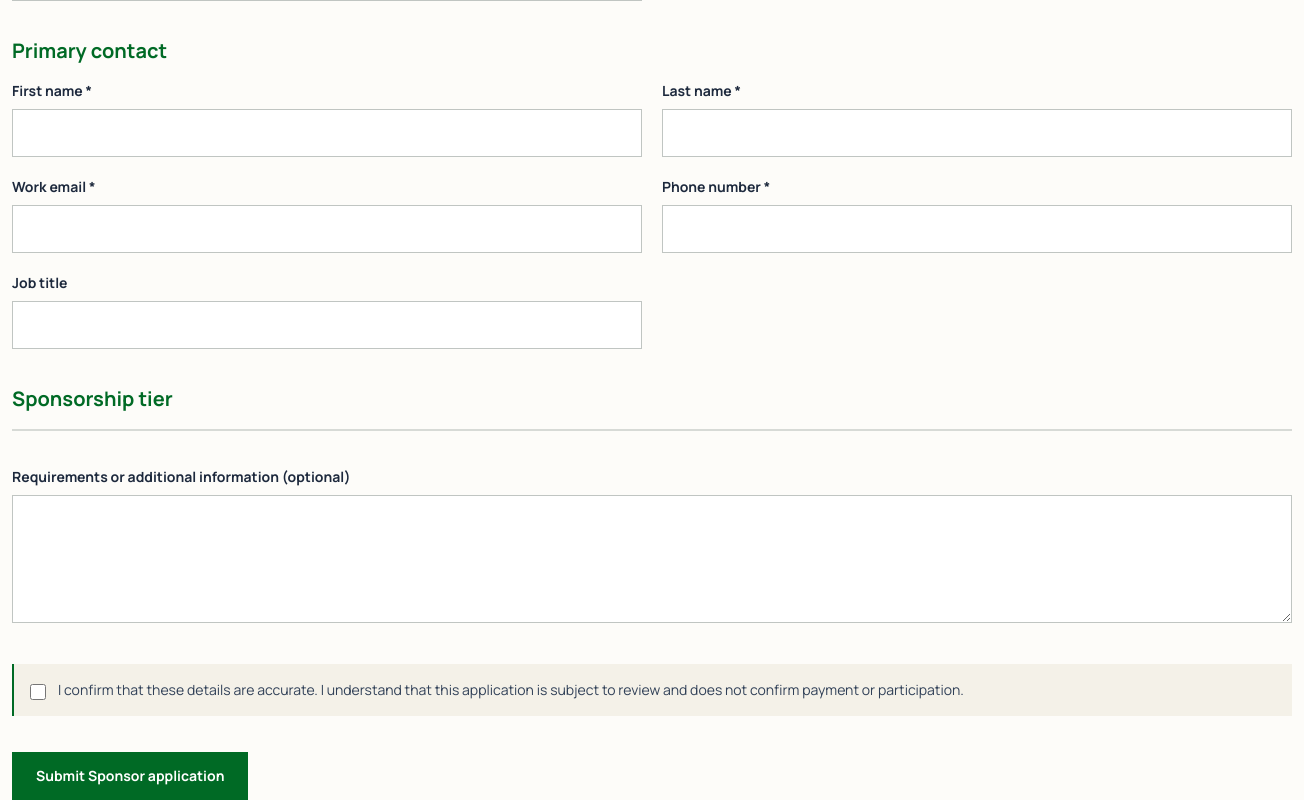
Test: commercial application frontend › recovers from a rejected submission without hiding the form
(page scrolled)
Click the button "Submit Sponsor application" at (130, 776), box 12,752 -> 248,799
(page scrolled)
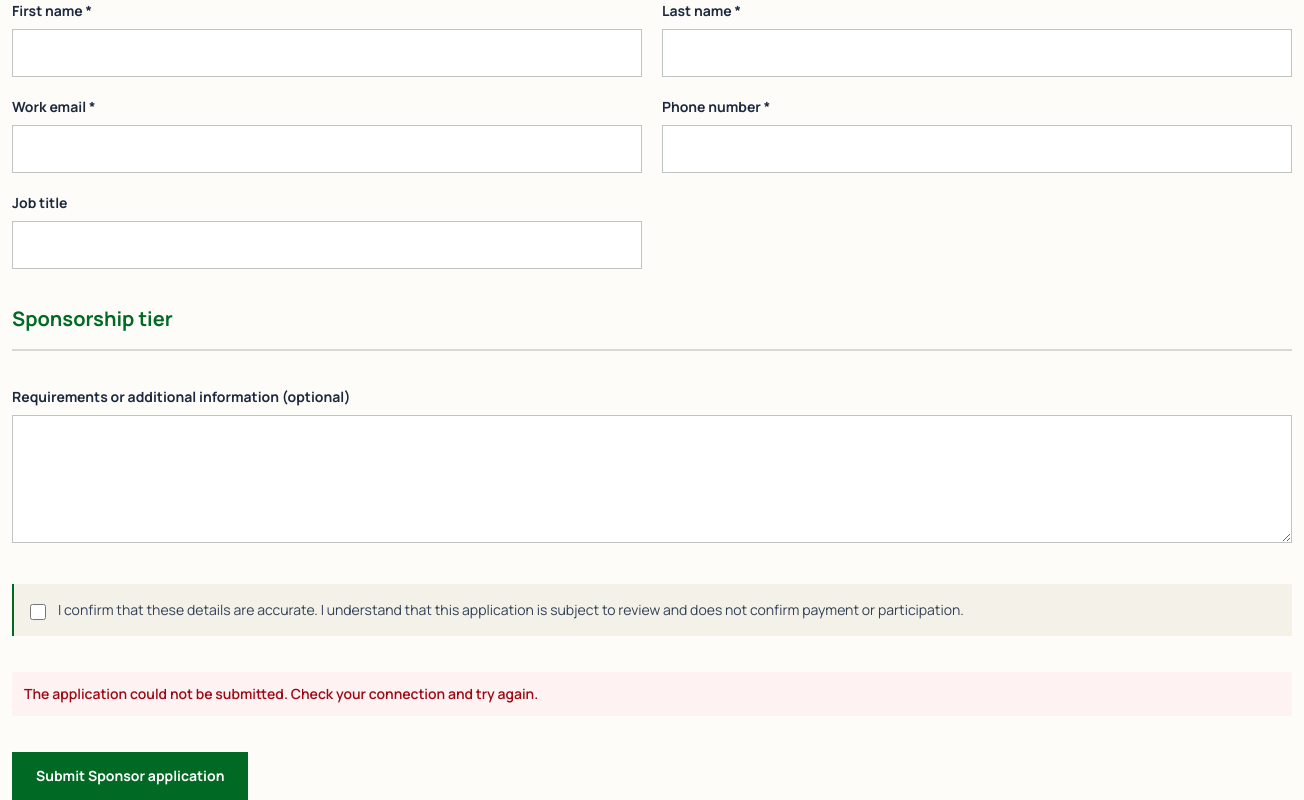
Now the message shows "could not be submitted", box 24,684 -> 538,703
